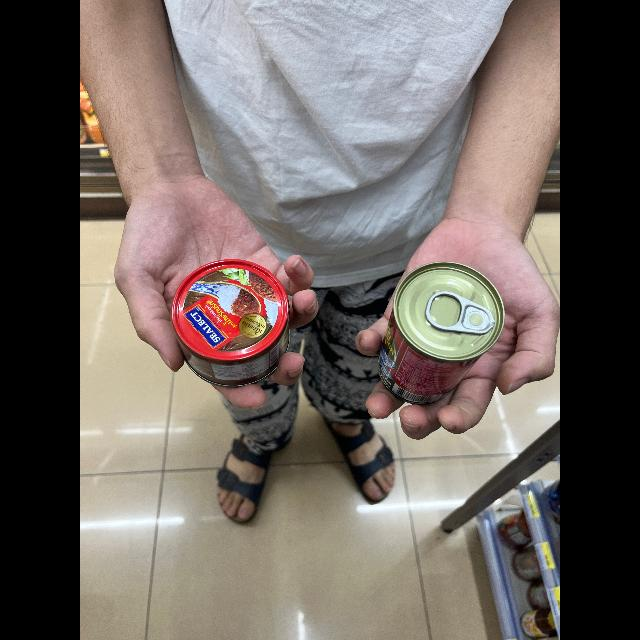can: (366, 252, 508, 404), (172, 252, 300, 374)
